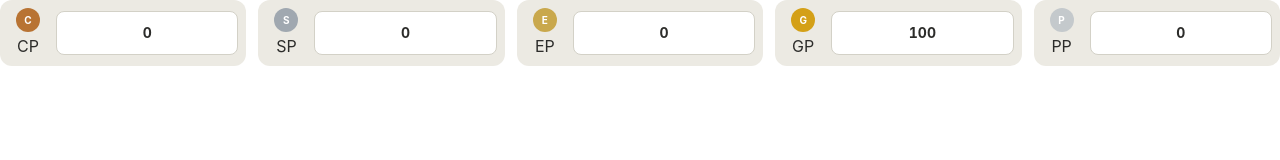
Test case: CurrencyRow › reverts to original value on invalid input (NaN)
Replace the text in the number field named "GP amount" with "abc": (922, 33) [831, 11, 1014, 55]
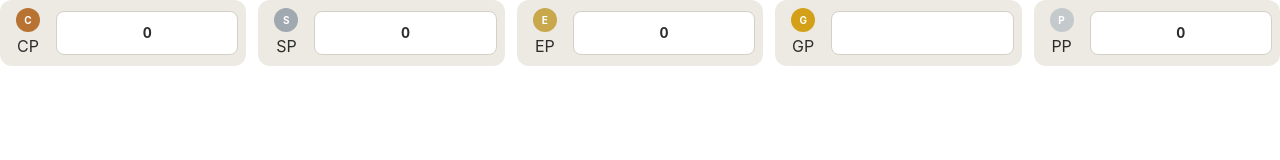
Leave the number field named "GP amount", box [831, 11, 1014, 55]
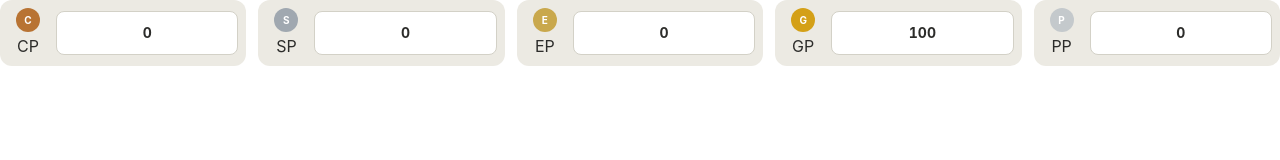
Expected: the number field named "GP amount" holds "100", [831, 11, 1014, 55]
